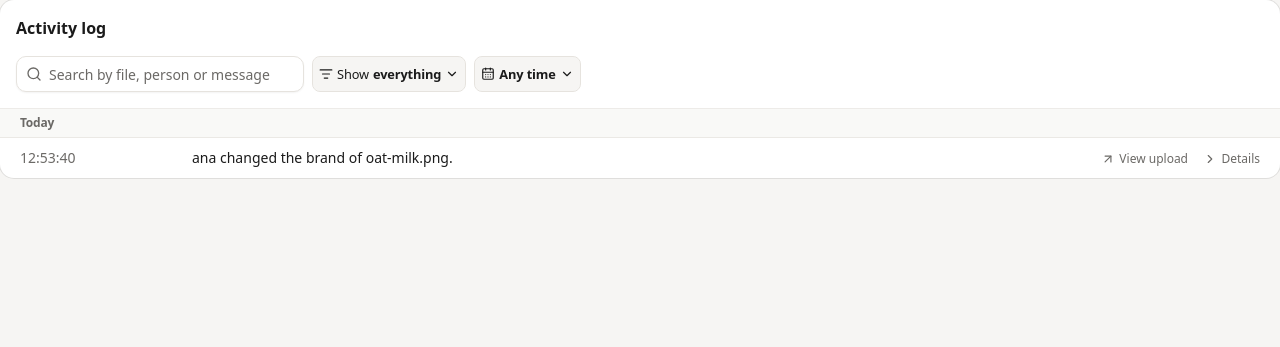
Test: ActivityLog › shows what an edit changed, as a diff
Click the button "Details" at (1232, 159), box [1204, 151, 1260, 167]
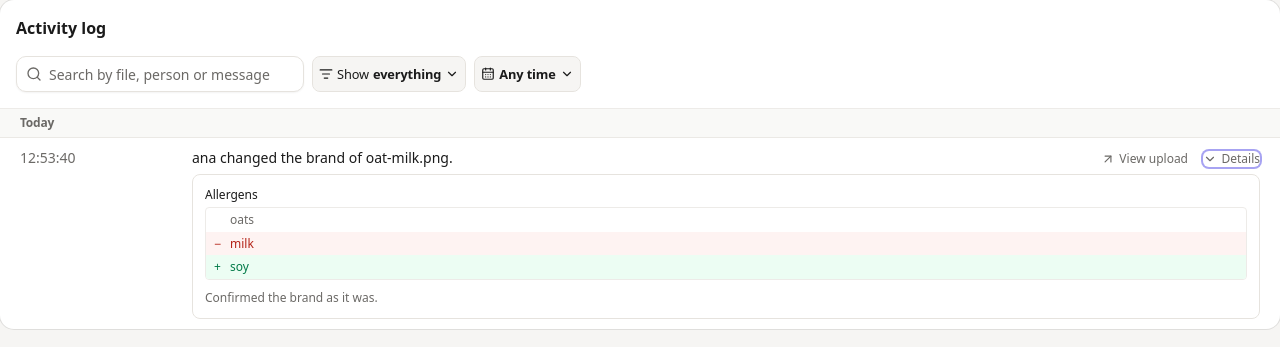
Expected: the text "Allergens" is shown, [205, 186, 258, 203]
Expected: the list items read "oats", "−Removed: milk", "+Added: soy", in this order, [230, 211, 254, 228]; [206, 232, 1246, 255]; [206, 255, 1246, 278]
Expected: the text "Confirmed the brand as it was." is shown, [205, 288, 378, 306]
